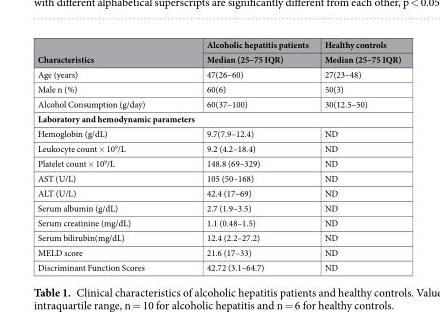table: (36, 37, 400, 273)
table column: (175, 37, 315, 273), (36, 37, 175, 273), (315, 37, 400, 273)
table column header: (36, 37, 400, 66)
table projected row header: (36, 110, 400, 125)
table row: (36, 51, 400, 66), (36, 66, 400, 81), (36, 81, 400, 96), (36, 110, 400, 125), (36, 125, 400, 140), (36, 140, 400, 155), (36, 155, 400, 170), (36, 170, 400, 185), (36, 185, 400, 200), (36, 200, 400, 215), (36, 229, 400, 244), (36, 244, 400, 259), (36, 37, 400, 51), (36, 96, 400, 110), (36, 215, 400, 229), (36, 259, 400, 273)
table spanning cell: (175, 37, 315, 66), (36, 37, 175, 66), (315, 37, 400, 66)
